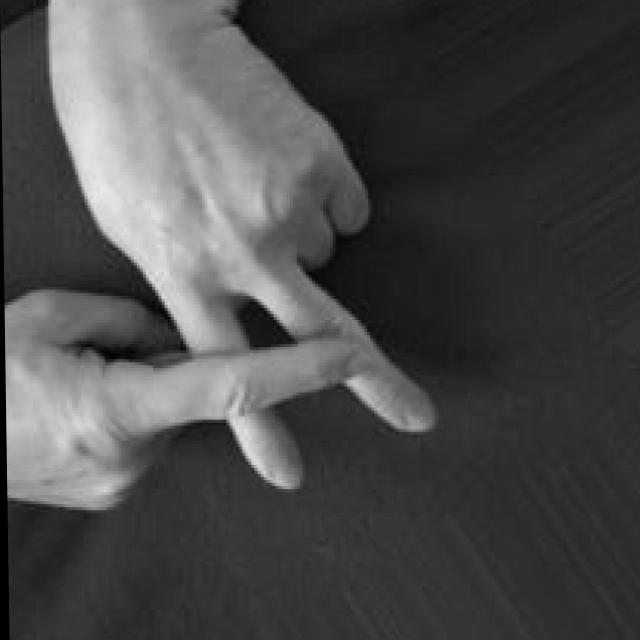A: (1, 36, 436, 510)
